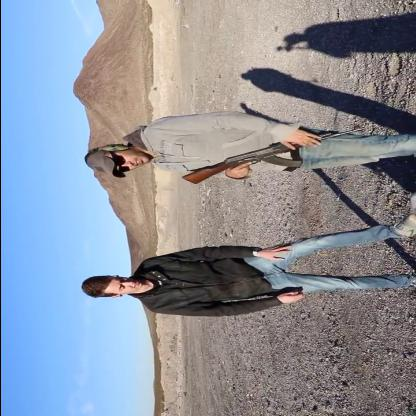long weapon: (176, 117, 366, 188)
